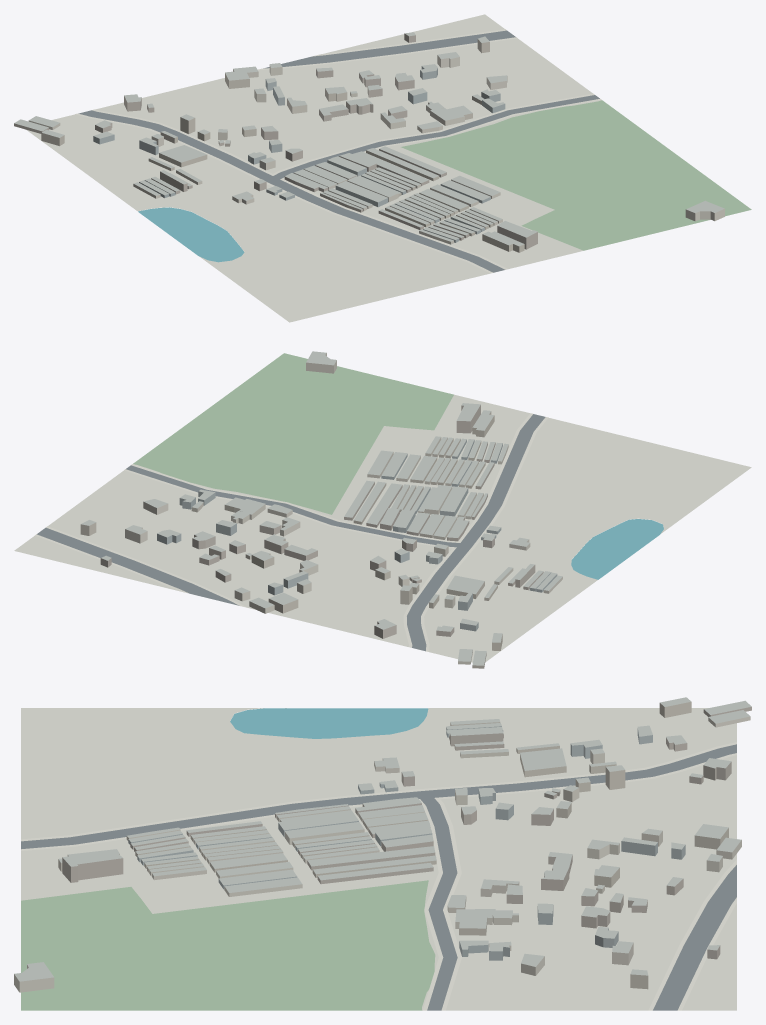
3 renders of one model, top to bottom at view 1: azimuth 30°, elevation 25°; view 2: azimuth 150°, elevation 25°; view 3: azimuth 270°, elevation 25°, orthographic. The views are drawn at different scales.
Visible parts, largest first — view 1: city; view 2: city; view 3: city.
Part boxes in pixels (left/top/right/bottom): city: left=14, top=14, right=751, bottom=322; city: left=14, top=351, right=751, bottom=668; city: left=14, top=697, right=751, bottom=1010.
Bounding box in the file's own units: 506 × 14.18 × 515.
